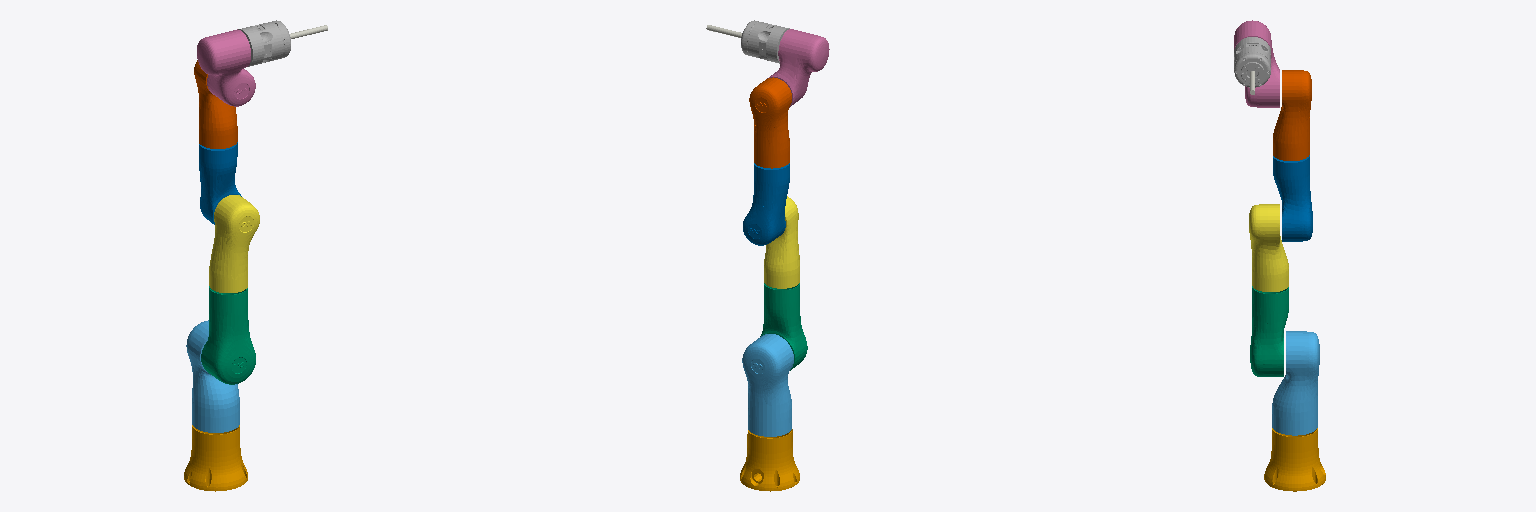
robot.urdf — Rizon4s_with_rod_tool:
<?xml version="1.0"?>
<!--
  Flexiv Rizon 4S model generated from flexivrobotics/flexiv_description,
  humble-v1 commit 92ef7865d76585e6e08d291bdfe652d32f7740f4.

  The official inertial, kinematic and joint-limit parameters are preserved.
  A 122.5 mm cylindrical hard-fingertip proxy is added for the ImplicitRDP flip_v2
  task. Its local +z axis points from the flange toward the dataset-aligned TCP.
  The 15 mm diameter is estimated from the wrist-camera images relative to the
  approximately 95 mm-wide phone box.
  Mesh paths are relative so this directory is self-contained.
-->
<robot name="Rizon4s_with_rod_tool">
  <link name="base_link">
    <inertial>
      <origin xyz="0.0002 -0.0007 0.0871" rpy="0 0 0"/>
      <mass value="3.788"/>
      <inertia ixx="0.0182" ixy="0.0" ixz="0.0" iyy="0.0184" iyz="0.0001" izz="0.01"/>
    </inertial>
    <visual><geometry><mesh filename="rizon4s_visual_link0.obj"/></geometry></visual>
    <collision><geometry><mesh filename="rizon4s_collision_link0.stl"/></geometry></collision>
  </link>

  <link name="link1">
    <inertial>
      <origin xyz="0.0001 0.0035 0.15" rpy="0 0 0"/>
      <mass value="3.596"/>
      <inertia ixx="0.0274" ixy="0.0" ixz="0.0" iyy="0.0273" iyz="0.0011" izz="0.0071"/>
    </inertial>
    <visual><geometry><mesh filename="rizon4s_visual_link1.obj"/></geometry></visual>
    <collision><geometry><mesh filename="rizon4s_collision_link1.stl"/></geometry></collision>
  </link>

  <joint name="joint1" type="revolute">
    <parent link="base_link"/><child link="link1"/>
    <origin xyz="0 0 0.155" rpy="0 0 3.141592653589793"/>
    <axis xyz="0 0 1"/>
    <limit lower="-2.8798" upper="2.8798" effort="123" velocity="2.0944"/>
    <dynamics damping="0.1" friction="0"/>
  </joint>

  <link name="link2">
    <inertial>
      <origin xyz="-0.0003 0.0361 0.0998" rpy="0 0 0"/>
      <mass value="2.69"/>
      <inertia ixx="0.023" ixy="0.0" ixz="0.0" iyy="0.0239" iyz="-0.0001" izz="0.0036"/>
    </inertial>
    <visual><geometry><mesh filename="rizon4s_visual_link2.obj"/></geometry></visual>
    <collision><geometry><mesh filename="rizon4s_collision_link2.stl"/></geometry></collision>
  </link>

  <joint name="joint2" type="revolute">
    <parent link="link1"/><child link="link2"/>
    <origin xyz="0 0.03 0.21" rpy="0 0 0"/>
    <axis xyz="0 1 0"/>
    <limit lower="-2.3562" upper="2.3562" effort="123" velocity="2.0944"/>
    <dynamics damping="0.1" friction="0"/>
  </joint>

  <link name="link3">
    <inertial>
      <origin xyz="-0.0123 -0.0012 0.1366" rpy="0 0 0"/>
      <mass value="2.354"/>
      <inertia ixx="0.0143" ixy="0.0001" ixz="-0.0015" iyy="0.0137" iyz="-0.0005" izz="0.004"/>
    </inertial>
    <visual><geometry><mesh filename="rizon4s_visual_link3.obj"/></geometry></visual>
    <collision><geometry><mesh filename="rizon4s_collision_link3.stl"/></geometry></collision>
  </link>

  <joint name="joint3" type="revolute">
    <parent link="link2"/><child link="link3"/>
    <origin xyz="0 0.035 0.205" rpy="0 0 0"/>
    <axis xyz="0 0 1"/>
    <limit lower="-3.0543" upper="3.0543" effort="64" velocity="2.4435"/>
    <dynamics damping="0.08" friction="0"/>
  </joint>

  <link name="link4">
    <inertial>
      <origin xyz="-0.0129 0.0313 0.1034" rpy="0 0 0"/>
      <mass value="2.354"/>
      <inertia ixx="0.018" ixy="0.0001" ixz="-0.0016" iyy="0.0184" iyz="-0.0012" izz="0.003"/>
    </inertial>
    <visual><geometry><mesh filename="rizon4s_visual_link4.obj"/></geometry></visual>
    <collision><geometry><mesh filename="rizon4s_collision_link4.stl"/></geometry></collision>
  </link>

  <joint name="joint4" type="revolute">
    <parent link="link3"/><child link="link4"/>
    <origin xyz="-0.02 -0.03 0.19" rpy="0 0 3.141592653589793"/>
    <axis xyz="0 1 0"/>
    <limit lower="-1.9548" upper="2.7751" effort="64" velocity="2.4435"/>
    <dynamics damping="0.08" friction="0"/>
  </joint>

  <link name="link5">
    <inertial>
      <origin xyz="0.0003 0.0014 0.1363" rpy="0 0 0"/>
      <mass value="2.31"/>
      <inertia ixx="0.0142" ixy="0.0" ixz="0.0" iyy="0.0135" iyz="0.0005" izz="0.0037"/>
    </inertial>
    <visual><geometry><mesh filename="rizon4s_visual_link5.obj"/></geometry></visual>
    <collision><geometry><mesh filename="rizon4s_collision_link5.stl"/></geometry></collision>
  </link>

  <joint name="joint5" type="revolute">
    <parent link="link4"/><child link="link5"/>
    <origin xyz="-0.02 0.025 0.195" rpy="0 0 3.141592653589793"/>
    <axis xyz="0 0 1"/>
    <limit lower="-3.0543" upper="3.0543" effort="39" velocity="4.8869"/>
    <dynamics damping="0.05" friction="0"/>
  </joint>

  <link name="link6">
    <inertial>
      <origin xyz="0.0202 0.0596 0.0724" rpy="0 0 0"/>
      <mass value="2.223"/>
      <inertia ixx="0.0085" ixy="0.0004" ixz="0.0012" iyy="0.009" iyz="0.0018" izz="0.0042"/>
    </inertial>
    <visual><geometry><mesh filename="rizon4s_visual_link6.obj"/></geometry></visual>
    <collision><geometry><mesh filename="rizon4s_collision_link6.stl"/></geometry></collision>
  </link>

  <joint name="joint6" type="revolute">
    <parent link="link5"/><child link="link6"/>
    <origin xyz="0 0.03 0.19" rpy="0 0 0"/>
    <axis xyz="0 1 0"/>
    <limit lower="-1.4835" upper="4.6251" effort="39" velocity="4.8869"/>
    <dynamics damping="0.05" friction="0"/>
  </joint>

  <link name="link7">
    <inertial>
      <origin xyz="0 0.0001 0.0544" rpy="0 0 0"/>
      <mass value="1.403"/>
      <inertia ixx="0.0032" ixy="0.0" ixz="0.0" iyy="0.0032" iyz="0.0" izz="0.0018"/>
    </inertial>
    <visual><geometry><mesh filename="rizon4s_visual_link7.obj"/></geometry></visual>
    <collision><geometry><mesh filename="rizon4s_collision_link7.stl"/></geometry></collision>
  </link>

  <joint name="joint7" type="revolute">
    <parent link="link6"/><child link="link7"/>
    <origin xyz="-0.015 0.073 0.11" rpy="0 -1.5707963267948966 0"/>
    <axis xyz="0 0 1"/>
    <limit lower="-3.0543" upper="3.0543" effort="39" velocity="4.8869"/>
    <dynamics damping="0.03" friction="0"/>
  </joint>

  <link name="flange"/>
  <joint name="link7_to_flange" type="fixed">
    <parent link="link7"/><child link="flange"/>
    <origin xyz="0 0 0.124" rpy="0 0 3.141592653589793"/>
  </joint>

  <!-- ImplicitRDP dataset hard fingertip: 15 mm diameter, 122.5 mm long. -->
  <link name="tool_link">
    <inertial>
      <origin xyz="0 0 0" rpy="0 0 0"/>
      <mass value="0.06"/>
      <inertia ixx="0.000075875" ixy="0" ixz="0" iyy="0.000075875" iyz="0" izz="0.0000016875"/>
    </inertial>
    <visual>
      <geometry><cylinder radius="0.0075" length="0.1225"/></geometry>
      <material name="rod_off_white"><color rgba="0.82 0.82 0.78 1"/></material>
    </visual>
    <collision><geometry><cylinder radius="0.0075" length="0.1225"/></geometry></collision>
  </link>
  <joint name="flange_to_tool" type="fixed">
    <parent link="flange"/><child link="tool_link"/>
    <origin xyz="0 0 0.06125" rpy="0 0 0"/>
  </joint>
</robot>

--- Facts derived from the render (not from the file) ---
3 views of the same robot in one strip: view 1: azimuth 30°, elevation 25°; view 2: azimuth 150°, elevation 25°; view 3: azimuth 270°, elevation 25° (orthographic).
Model Rizon4s_with_rod_tool with 10 links and 9 joints (7 revolute, 2 fixed), rooted at base_link, posed every joint at zero.
Links seen in each view (by area): view 1: link2, link3, link6, link1, base_link, link4, link5, link7; view 2: link1, link5, base_link, link4, link6, link2, link3, link7; view 3: link1, link2, base_link, link5, link3, link4, link6, link7.
Boxes of the visible links, bbox=[...] form: link2: bbox=[201, 286, 255, 384]; link3: bbox=[209, 195, 259, 292]; link6: bbox=[197, 29, 255, 106]; link1: bbox=[186, 320, 239, 432]; base_link: bbox=[184, 425, 247, 491]; link4: bbox=[199, 142, 241, 224]; link5: bbox=[194, 60, 237, 148]; link7: bbox=[238, 20, 290, 66]; link1: bbox=[742, 334, 793, 436]; link5: bbox=[749, 77, 791, 168]; base_link: bbox=[740, 429, 799, 491]; link4: bbox=[743, 163, 789, 245]; link6: bbox=[767, 29, 829, 107]; link2: bbox=[760, 283, 807, 370]; link3: bbox=[764, 196, 799, 288]; link7: bbox=[741, 20, 789, 63]; link1: bbox=[1272, 331, 1319, 435]; link2: bbox=[1250, 286, 1288, 376]; base_link: bbox=[1264, 428, 1325, 491]; link5: bbox=[1273, 70, 1311, 160]; link3: bbox=[1249, 204, 1288, 291]; link4: bbox=[1273, 155, 1312, 241]; link6: bbox=[1234, 20, 1279, 107]; link7: bbox=[1234, 37, 1270, 87].
Size in the robot's own frame: 0.367 by 0.2454 by 1.3 metres.
8 mesh visuals loaded from 8 distinct referenced files (8 OBJ).
